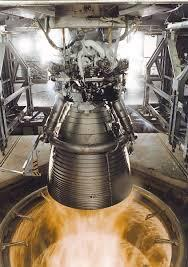thruster: (44, 100, 136, 213)
